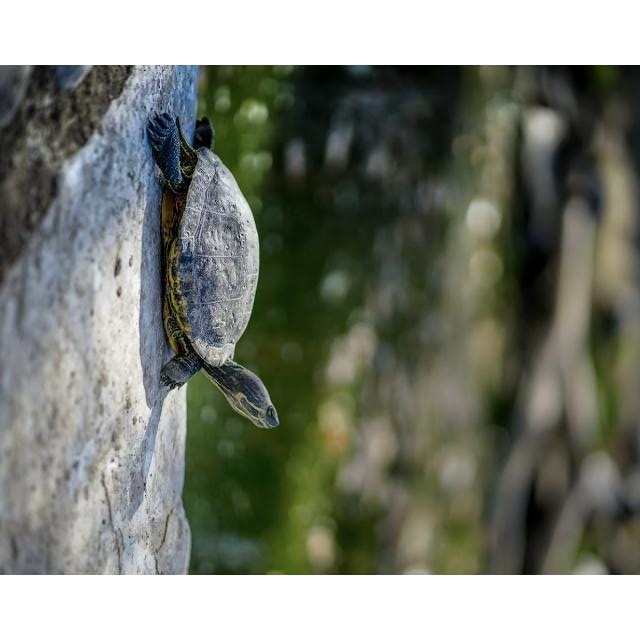turtle: (145, 113, 280, 429)
